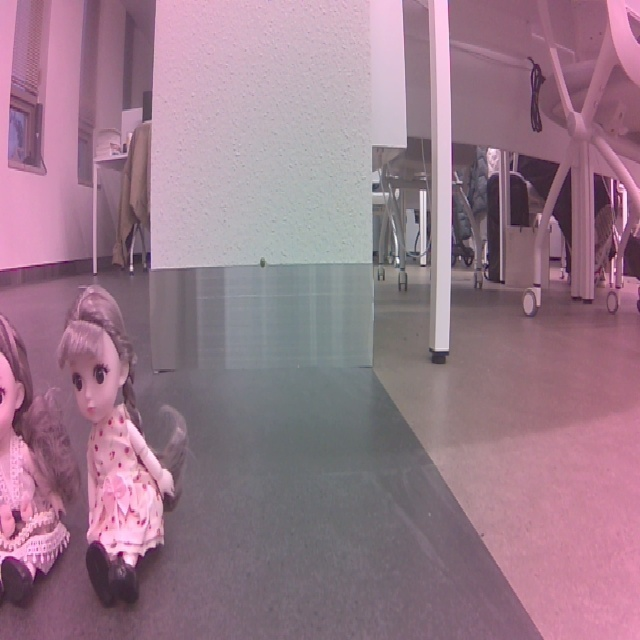장애물: (52, 281, 196, 612)
